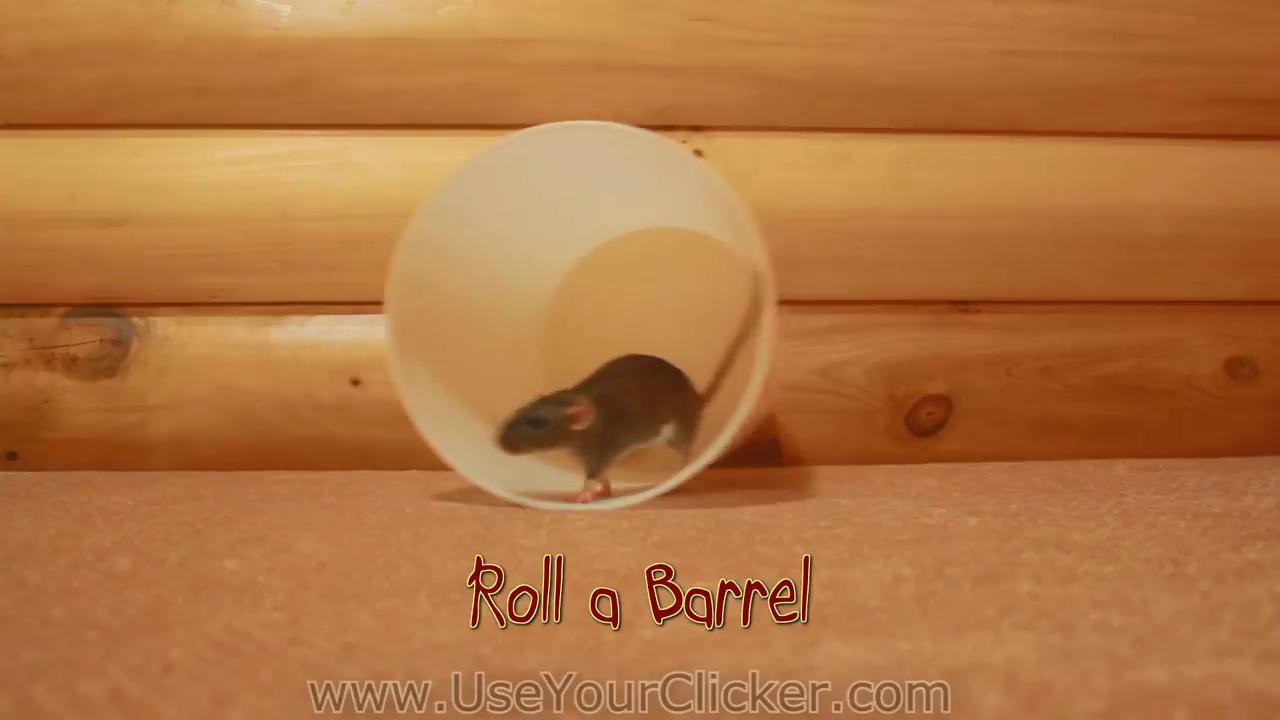rat: (498, 274, 762, 501)
